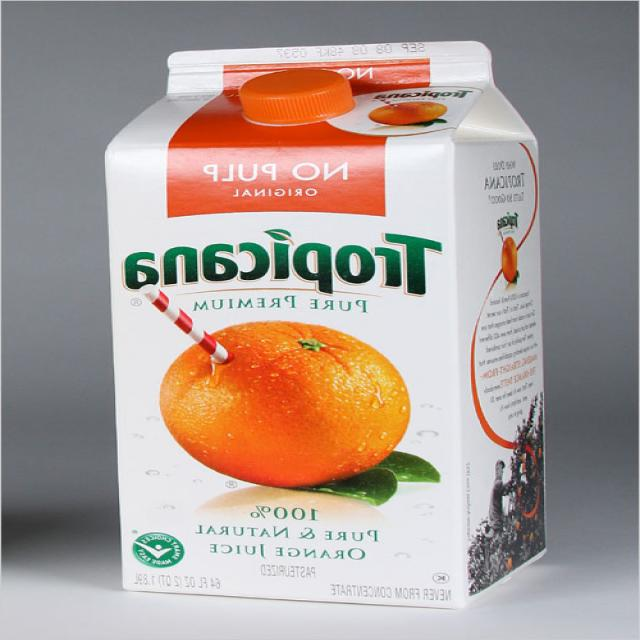cardboard: (98, 33, 552, 605)
